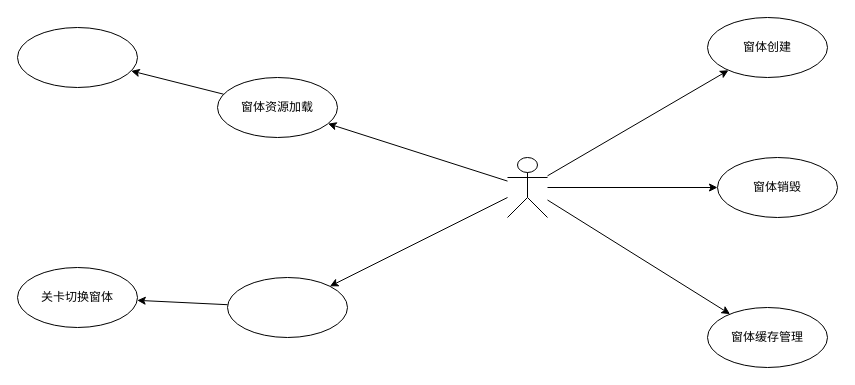
Some shapes in this 855 by 385 pixel diagram are drawn without their labels. Each missing label, with the centre of its shape:
"Actor" goes at pixel 527 187.
"关联资源加载" goes at pixel 77 57.
"窗体销毁管理" goes at pixel 287 307.
